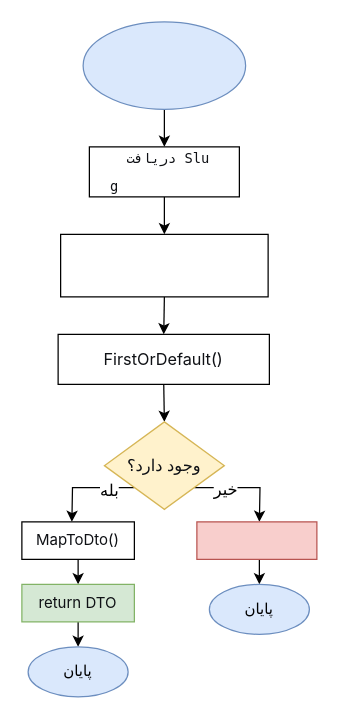
The diagram is 339 pixels wide and 719 high, and some of its shapes have lost their labels. The box of each missing label's shape, as (x1, y1, x2, y2) in pixels:
FindAsync(c => c.Slug == slug): (59, 233, 268, 297)
return null: (196, 521, 317, 559)
شروع GetCategoryDtoBySlug: (82, 21, 246, 109)
